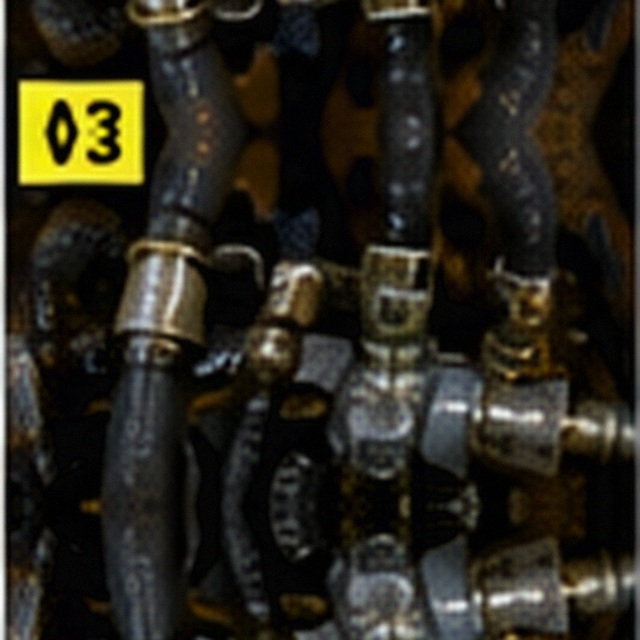hydraulic_oil_leak: (196, 217, 400, 423)
